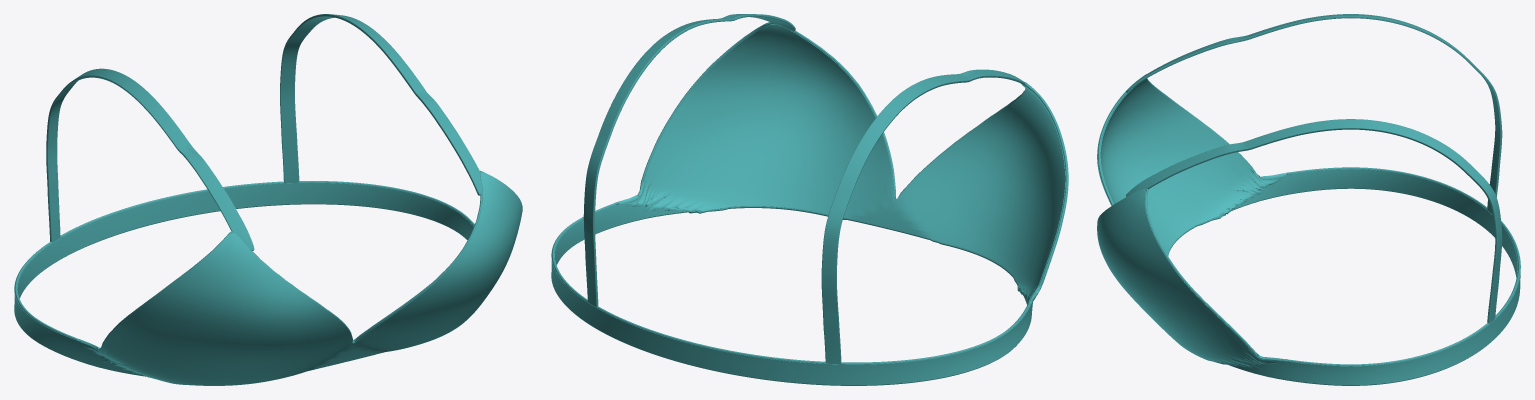
Rendered from Feminine-triangle-top.glb.
3 renders of one model, left to right at view 1: azimuth 30°, elevation 25°; view 2: azimuth 150°, elevation 25°; view 3: azimuth 270°, elevation 25°, orthographic. The views are drawn at different scales.
Visible parts, largest first — view 1: Clothing / connected triangle cups and underband, Clothing / Triangle seated shoulder strap 1, Clothing / Triangle seated shoulder strap -1, Triangle / sewn binding 1 export, Triangle / sewn binding 0 export; view 2: Clothing / connected triangle cups and underband, Clothing / Triangle seated shoulder strap -1, Clothing / Triangle seated shoulder strap 1, Triangle / sewn binding 1 export, Triangle / sewn binding 0 export; view 3: Clothing / connected triangle cups and underband, Clothing / Triangle seated shoulder strap 1, Clothing / Triangle seated shoulder strap -1, Triangle / sewn binding 1 export, Triangle / sewn binding 0 export.
Boxes of the visible parts, x1,y1,x2,y2 form: Clothing / connected triangle cups and underband: (14,172,522,385); Clothing / Triangle seated shoulder strap 1: (280,14,482,195); Clothing / Triangle seated shoulder strap -1: (46,68,254,250); Triangle / sewn binding 1 export: (14,170,496,347); Triangle / sewn binding 0 export: (27,204,450,376); Clothing / connected triangle cups and underband: (551,22,1068,385); Clothing / Triangle seated shoulder strap -1: (821,69,1025,364); Clothing / Triangle seated shoulder strap 1: (583,14,795,307); Triangle / sewn binding 1 export: (551,22,1068,364); Triangle / sewn binding 0 export: (571,206,1021,385); Clothing / connected triangle cups and underband: (1097,74,1520,385); Clothing / Triangle seated shoulder strap 1: (1126,119,1502,323); Clothing / Triangle seated shoulder strap -1: (1126,14,1502,214); Triangle / sewn binding 1 export: (1098,74,1520,366); Triangle / sewn binding 0 export: (1168,188,1480,385).
Size of the model in its own units: 0.5786 by 0.3039 by 0.522.
